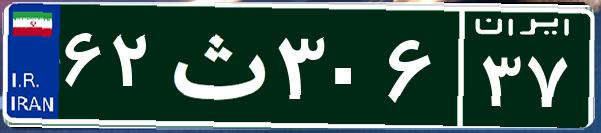0: (330, 28, 385, 110)
2: (110, 28, 158, 105)
3: (273, 28, 330, 110), (475, 38, 525, 113)
6: (385, 28, 445, 110), (57, 26, 110, 107)
7: (525, 38, 570, 115)
ث: (158, 15, 273, 115)
